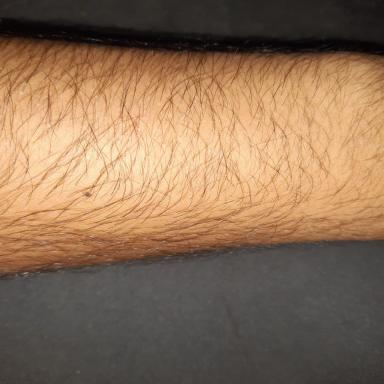normal skin: (1, 38, 383, 272)
